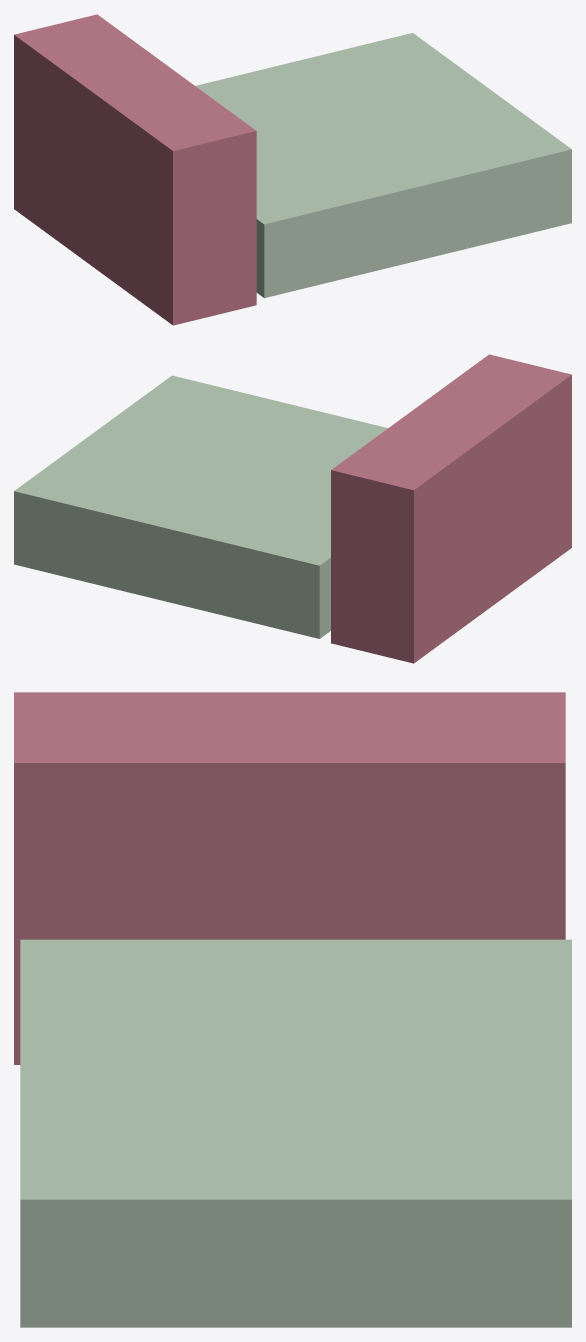
The picture shows the model from 3 angles, top to bottom: view 1: azimuth 30°, elevation 25°; view 2: azimuth 150°, elevation 25°; view 3: azimuth 270°, elevation 25°; orthographic projection. The views are drawn at different scales.
Visible parts, largest first — view 1: world; view 2: world; view 3: world.
Boxes of the visible parts, bbox=[...] form: world: bbox=[14, 14, 571, 325]; world: bbox=[14, 354, 571, 663]; world: bbox=[14, 692, 571, 1327].
Bounding box in the file's own units: 6.25 × 2.6 × 4.35.
